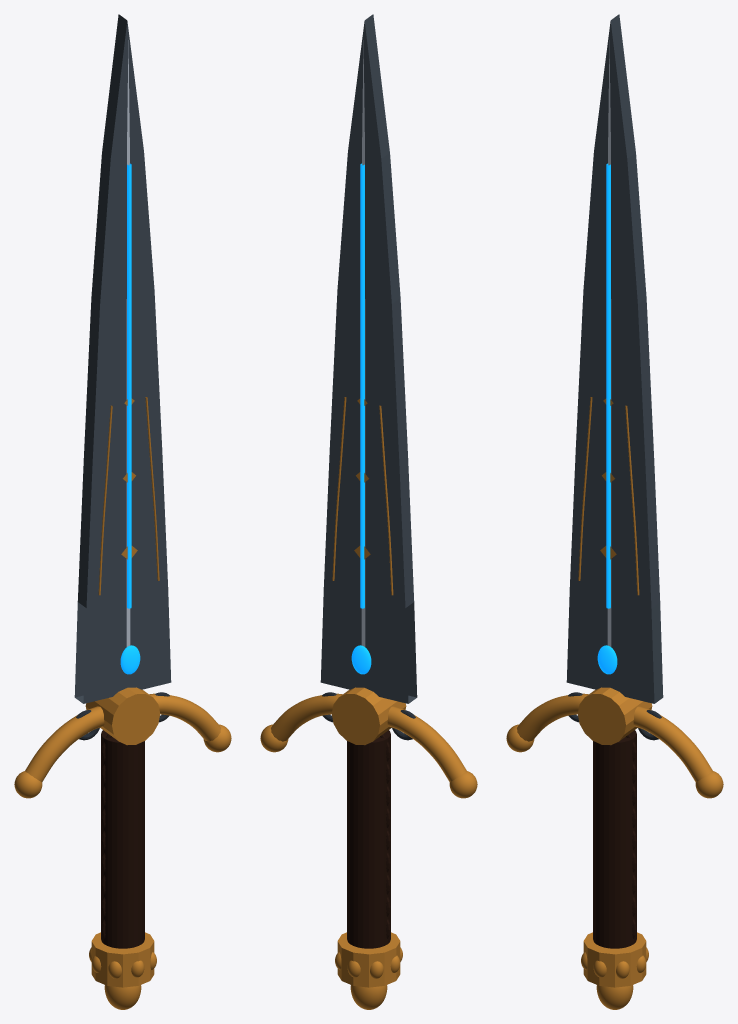
The model's file is Sword2.glb.
The picture shows the model from 3 angles, left to right: view 1: azimuth 30°, elevation 25°; view 2: azimuth 150°, elevation 25°; view 3: azimuth 330°, elevation 25°; orthographic projection.
Parts seen in each view (by area): view 1: Blade_Main, Leather_Grip, Guard_Center, Magic_Channel_Front, Crown_Pommel, Curved_Quillon, Curved_Quillon.001, Blade_Ridge_Front, Pommel_Finial, Guard_End_Orb, Blade_Engraving, Blade_Engraving.001; view 2: Blade_Main, Leather_Grip, Guard_Center, Magic_Channel_Back, Crown_Pommel, Curved_Quillon, Curved_Quillon.001, Blade_Ridge_Back, Pommel_Finial, Guard_End_Orb, Blade_Engraving.002, Blade_Engraving.003; view 3: Blade_Main, Leather_Grip, Guard_Center, Magic_Channel_Front, Crown_Pommel, Curved_Quillon.001, Curved_Quillon, Blade_Ridge_Front, Pommel_Finial, Guard_End_Orb.001, Blade_Engraving.001, Blade_Engraving.
Boxes of the visible parts, x1=… form: Blade_Main: x1=74, y1=14, x2=171, y2=703; Leather_Grip: x1=101, y1=730, x2=144, y2=948; Guard_Center: x1=85, y1=687, x2=160, y2=745; Magic_Channel_Front: x1=127, y1=163, x2=131, y2=608; Crown_Pommel: x1=91, y1=932, x2=154, y2=987; Curved_Quillon: x1=25, y1=706, x2=104, y2=782; Curved_Quillon.001: x1=149, y1=693, x2=220, y2=741; Blade_Ridge_Front: x1=126, y1=40, x2=130, y2=646; Pommel_Finial: x1=104, y1=985, x2=141, y2=1009; Guard_End_Orb: x1=14, y1=771, x2=42, y2=798; Blade_Engraving: x1=98, y1=405, x2=112, y2=595; Blade_Engraving.001: x1=145, y1=397, x2=159, y2=580; Blade_Main: x1=320, y1=14, x2=417, y2=703; Leather_Grip: x1=347, y1=730, x2=390, y2=948; Guard_Center: x1=331, y1=687, x2=406, y2=745; Magic_Channel_Back: x1=360, y1=163, x2=364, y2=608; Crown_Pommel: x1=337, y1=932, x2=400, y2=987; Curved_Quillon: x1=387, y1=706, x2=466, y2=782; Curved_Quillon.001: x1=271, y1=693, x2=342, y2=741; Blade_Ridge_Back: x1=361, y1=40, x2=365, y2=646; Pommel_Finial: x1=350, y1=985, x2=387, y2=1009; Guard_End_Orb: x1=449, y1=771, x2=477, y2=798; Blade_Engraving.002: x1=379, y1=405, x2=393, y2=595; Blade_Engraving.003: x1=332, y1=397, x2=346, y2=580; Blade_Main: x1=566, y1=14, x2=663, y2=703; Leather_Grip: x1=593, y1=730, x2=636, y2=948; Guard_Center: x1=577, y1=687, x2=652, y2=745; Magic_Channel_Front: x1=606, y1=163, x2=610, y2=608; Crown_Pommel: x1=583, y1=932, x2=646, y2=987; Curved_Quillon.001: x1=633, y1=706, x2=712, y2=782; Curved_Quillon: x1=517, y1=693, x2=588, y2=741; Blade_Ridge_Front: x1=607, y1=40, x2=611, y2=646; Pommel_Finial: x1=596, y1=985, x2=633, y2=1009; Guard_End_Orb.001: x1=695, y1=771, x2=723, y2=798; Blade_Engraving.001: x1=625, y1=405, x2=639, y2=595; Blade_Engraving: x1=578, y1=397, x2=592, y2=580.
Size of the model in its own units: 2.82 by 12.52 by 0.8.
